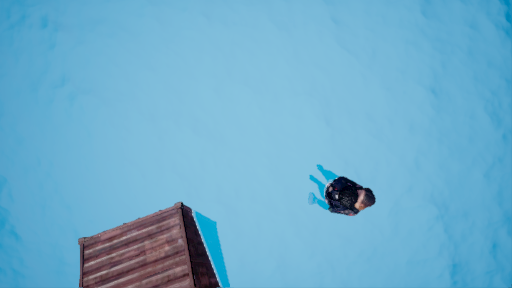person: (310, 161, 375, 223)
